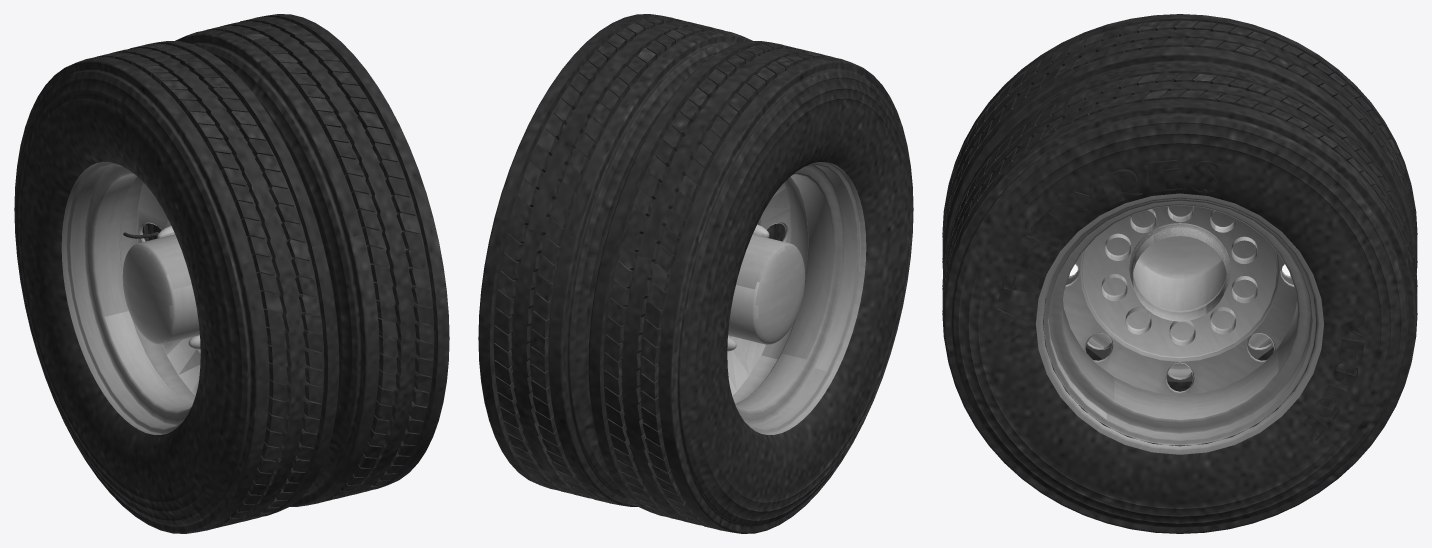
Rendered from llanta_tras_der.obj.
3 views of the same model, side by side, from view 1: azimuth 30°, elevation 25°; view 2: azimuth 150°, elevation 25°; view 3: azimuth 270°, elevation 25° (orthographic). The views are drawn at different scales.
Visible parts, largest first — view 1: Llanta_tras_der, rin; view 2: Llanta_tras_der, rin; view 3: Llanta_tras_der, rin, rin001.
Part boxes in pixels (bbox=[...]): Llanta_tras_der: bbox=[14, 14, 449, 533]; rin: bbox=[61, 161, 200, 434]; Llanta_tras_der: bbox=[478, 14, 913, 533]; rin: bbox=[727, 161, 866, 434]; Llanta_tras_der: bbox=[942, 14, 1417, 533]; rin: bbox=[1036, 193, 1323, 454]; rin001: bbox=[1066, 224, 1293, 382].
Bounding box in the file's own units: 0.3501 × 0.6655 × 0.6656.
